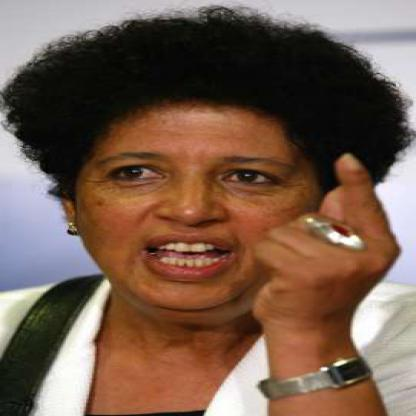face: (71, 73, 330, 314)
